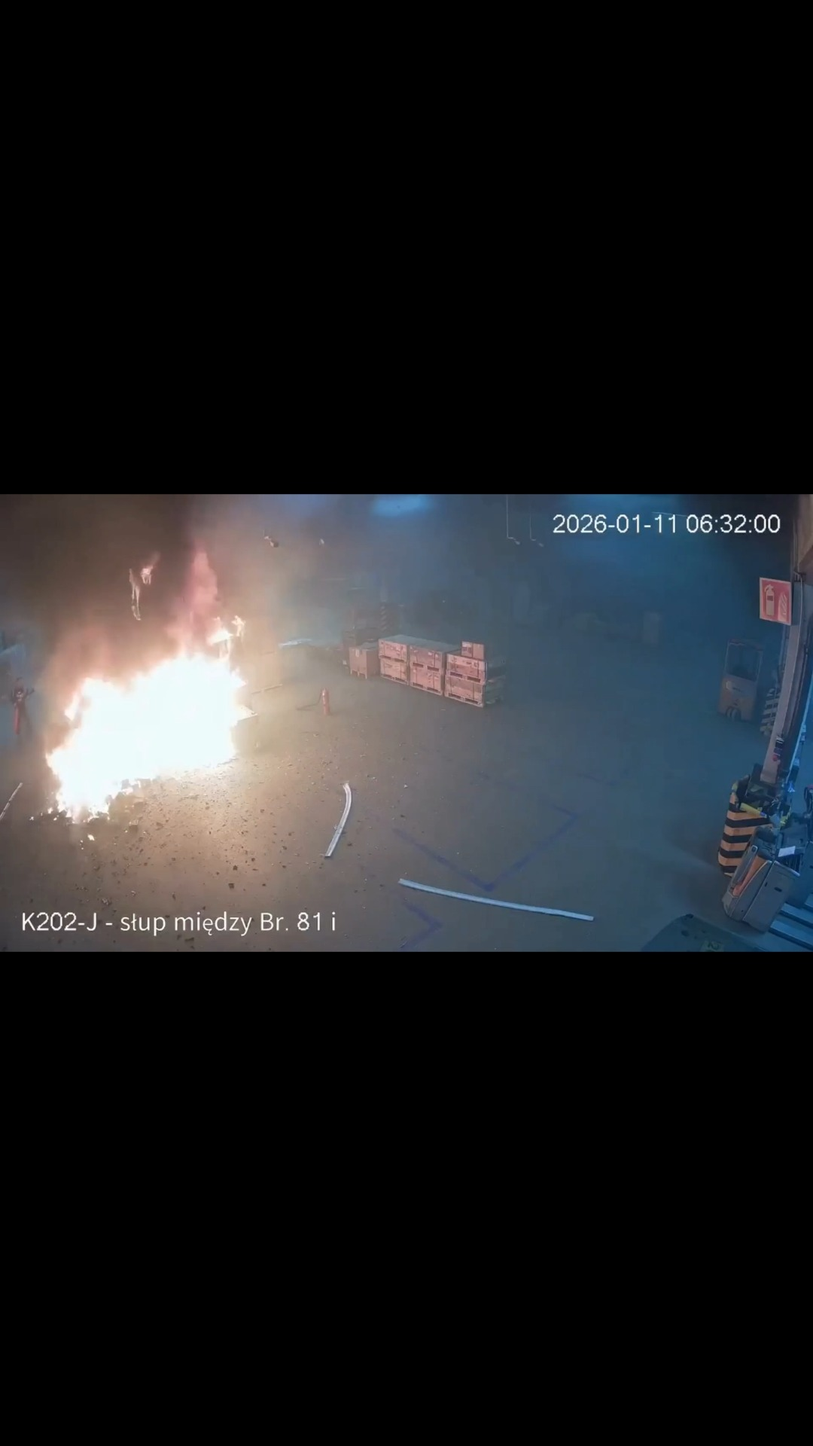fire: (44, 550, 249, 827)
smoke: (0, 496, 337, 720)
